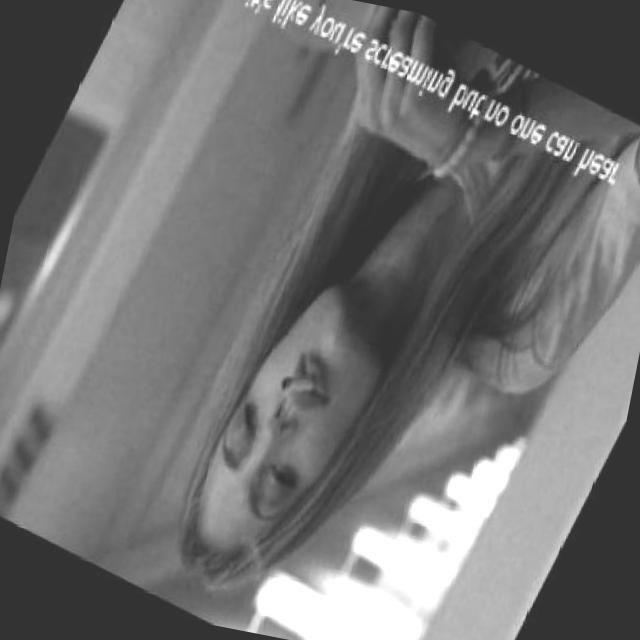smoke: (276, 362, 324, 406)
